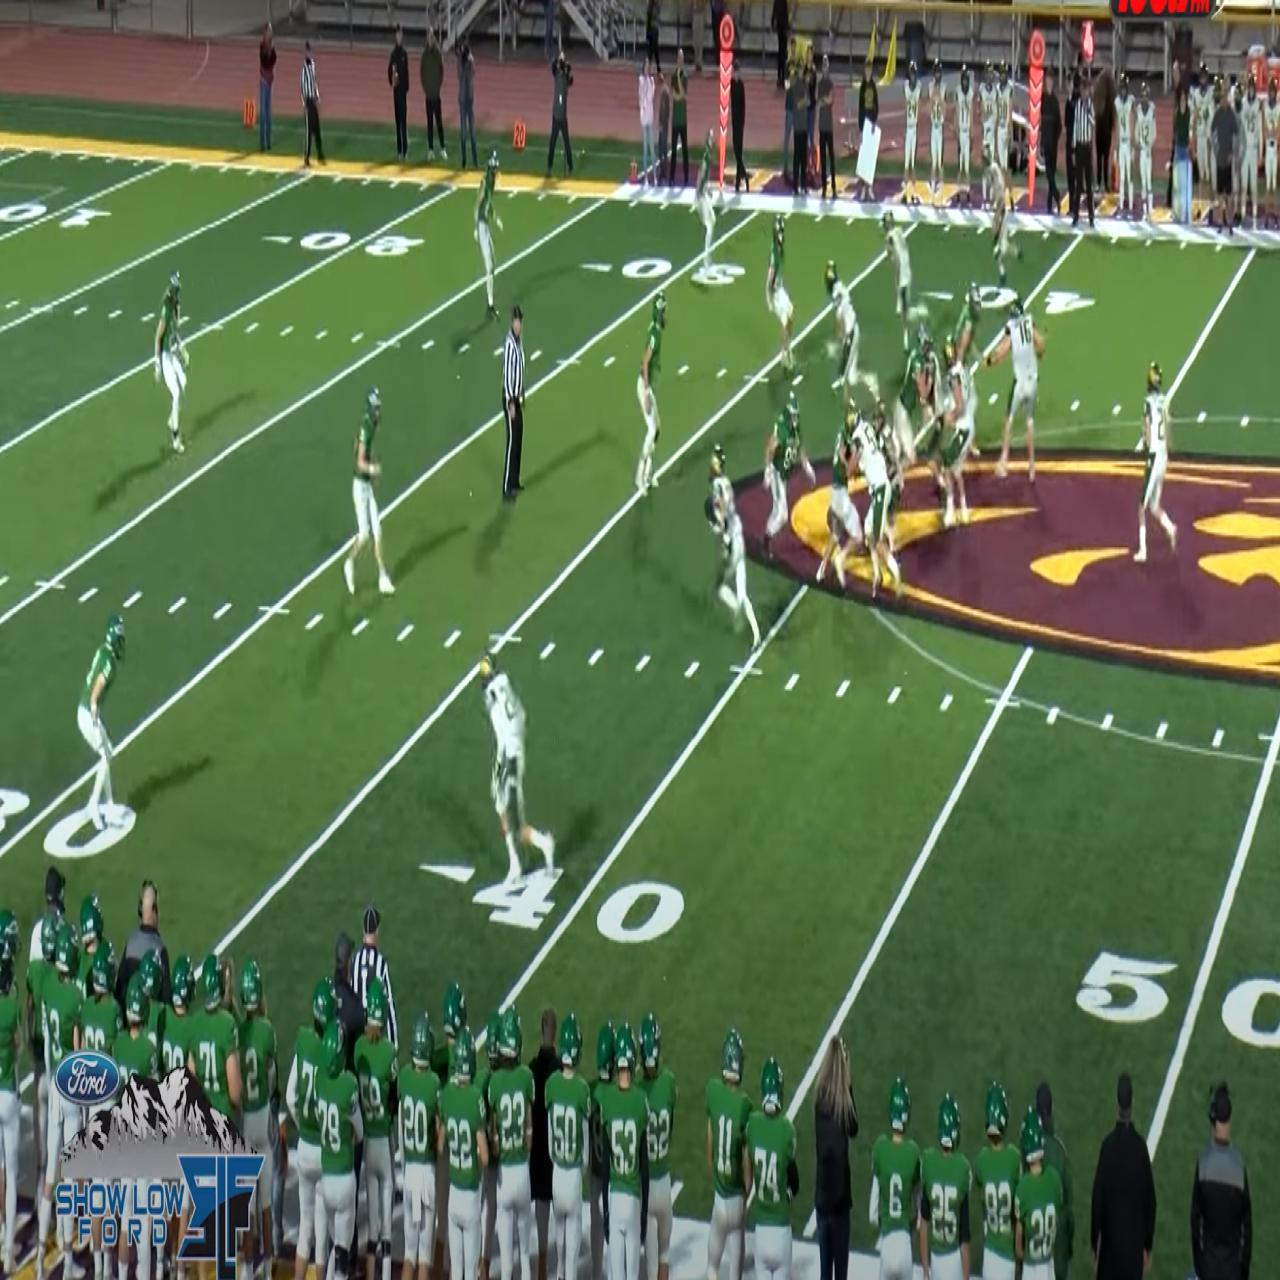10L: (0, 199, 113, 232)
20L: (263, 231, 425, 261)
30L: (0, 788, 136, 869), (580, 256, 747, 288)
40L: (417, 855, 685, 946), (915, 282, 1095, 314)
50: (1074, 951, 1280, 1050)
